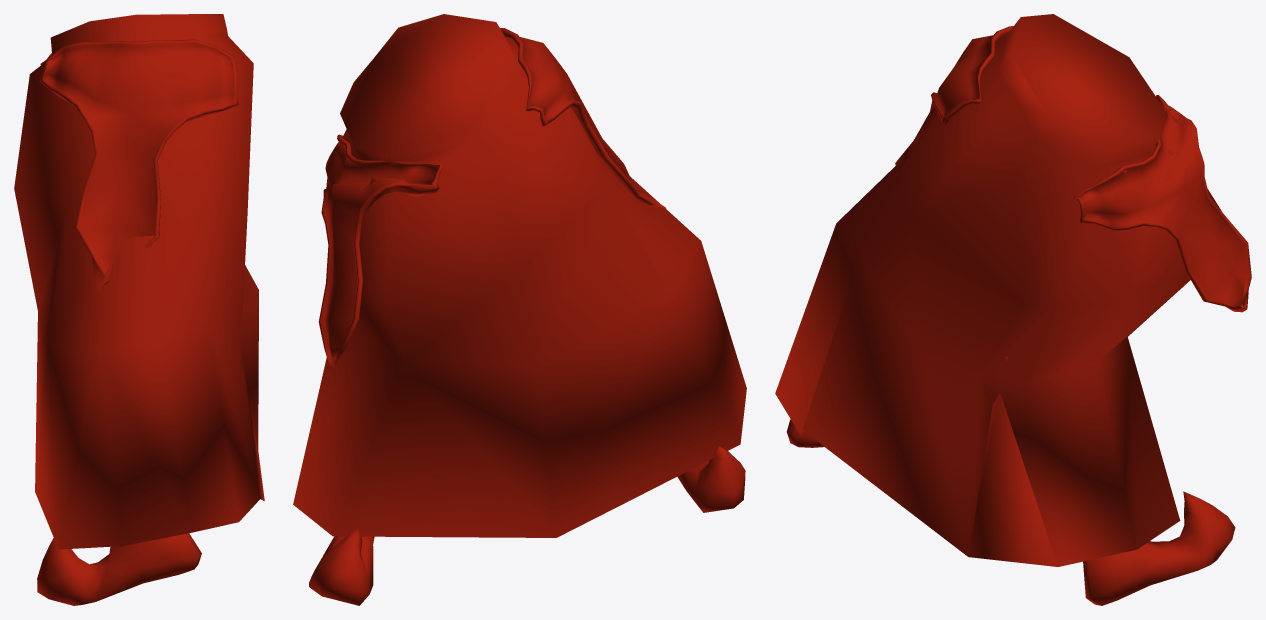
The model's file is bot_000054.obj.
3 views of the same model, side by side, from view 1: azimuth 30°, elevation 25°; view 2: azimuth 150°, elevation 25°; view 3: azimuth 270°, elevation 25° (orthographic). The views are drawn at different scales.
Visible parts, largest first — view 1: LowPoly_Warlock.004_Plane.004; view 2: LowPoly_Warlock.004_Plane.004; view 3: LowPoly_Warlock.004_Plane.004.
Part boxes in pixels (left/top/right/bottom): LowPoly_Warlock.004_Plane.004: left=14, top=14, right=264, bottom=605; LowPoly_Warlock.004_Plane.004: left=293, top=14, right=746, bottom=605; LowPoly_Warlock.004_Plane.004: left=775, top=14, right=1251, bottom=605.
Size of the model in its own units: 0.6764 by 1.13 by 0.9104.
